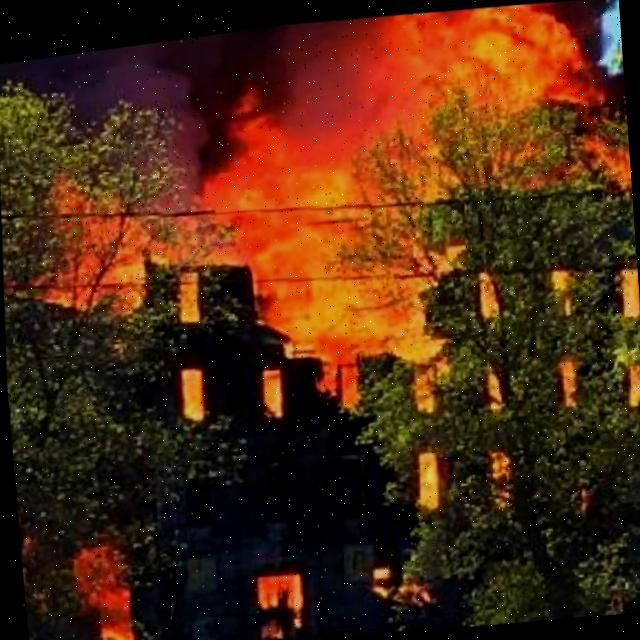fire: (225, 0, 640, 413), (33, 154, 251, 316), (63, 535, 141, 640), (230, 551, 318, 640), (171, 358, 213, 432), (410, 444, 447, 520)
